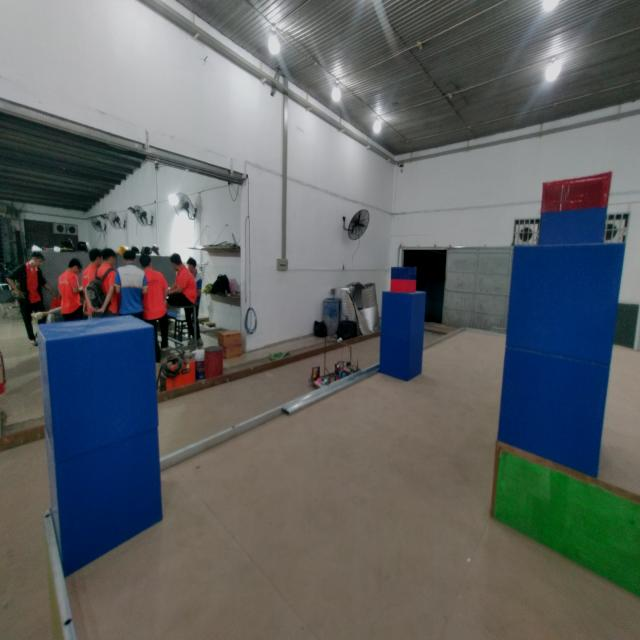earth_block: (33, 315, 165, 455), (498, 241, 627, 362), (379, 289, 426, 339), (377, 340, 427, 382)
sky_block: (537, 170, 613, 243), (388, 266, 419, 290)
